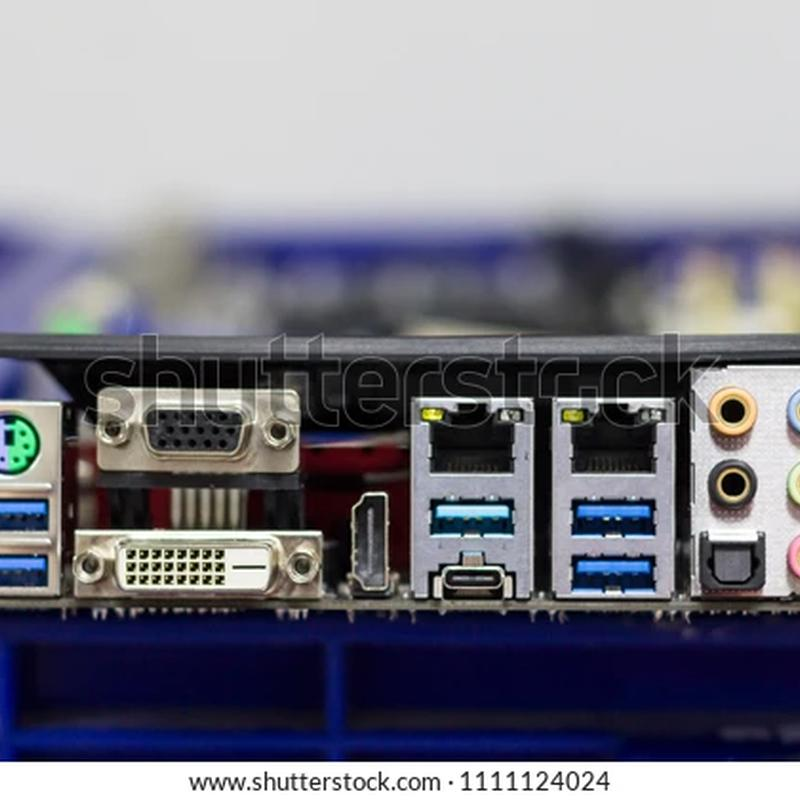AUDIO: (772, 384, 799, 452)
AUDIO_INPUT: (776, 457, 799, 520)
AUDIO_OUTPUT: (776, 525, 799, 604)
DVI: (57, 514, 332, 619)
ETHERNET: (544, 396, 675, 479), (407, 397, 524, 486)
HDMI: (341, 483, 405, 605)
PS2: (0, 404, 57, 482)
USB: (419, 488, 526, 543), (563, 493, 667, 540), (561, 548, 665, 592), (0, 484, 56, 536), (0, 547, 54, 592)
USBC: (420, 548, 520, 610)
VGA: (86, 375, 306, 479)
